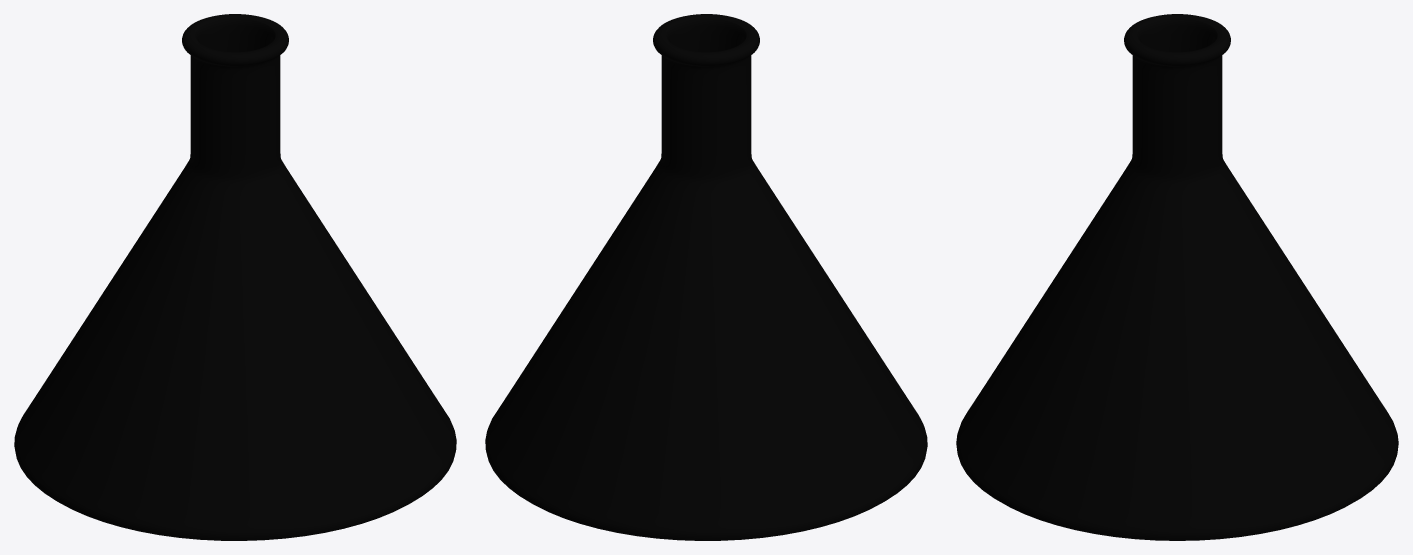
The model's file is 260401_frasco.glb.
The picture shows the model from 3 angles, left to right: view 1: azimuth 30°, elevation 25°; view 2: azimuth 150°, elevation 25°; view 3: azimuth 270°, elevation 25°; orthographic projection.
Visible parts, largest first — view 1: 円.002; view 2: 円.002; view 3: 円.002.
Boxes of the visible parts, bbox=[...] form: 円.002: bbox=[14, 14, 456, 540]; 円.002: bbox=[485, 14, 927, 540]; 円.002: bbox=[956, 14, 1398, 540].
Size of the model in its own units: 4.4 by 4.59 by 4.4.
4 materials, 1 textured.
